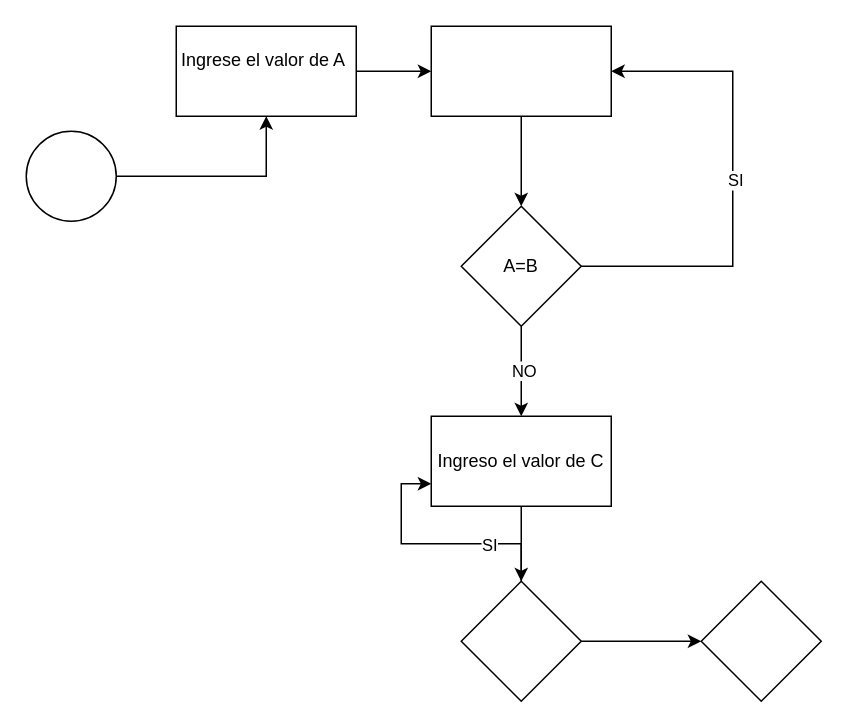
Image size: 848x728. Some labels were removed from this diagram. Each missing label, with the centre of its shape:
"C=B o C=A" goes at point 520,640.
"Ingrese el valor B" goes at point 520,70.
